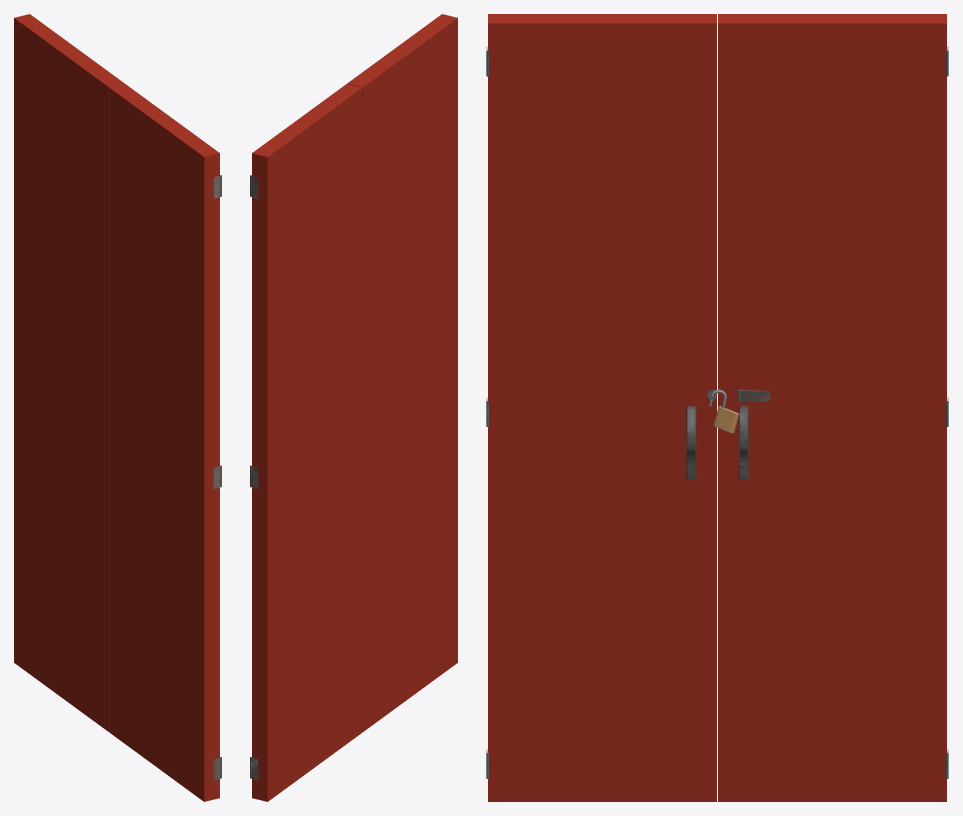
The model's file is Build_Puerta.fbx.
The picture shows the model from 3 angles, left to right: view 1: azimuth 30°, elevation 25°; view 2: azimuth 150°, elevation 25°; view 3: azimuth 270°, elevation 25°; orthographic projection. The views are drawn at different scales.
Visible parts, largest first — view 1: Build_Puerta; view 2: Build_Puerta; view 3: Build_Puerta.
Boxes of the visible parts, x1,y1,x2,y2 form: Build_Puerta: (14,14,221,801); Build_Puerta: (250,14,457,801); Build_Puerta: (486,14,948,801).
Size of the model in its own units: 9.64 by 214 by 115.
